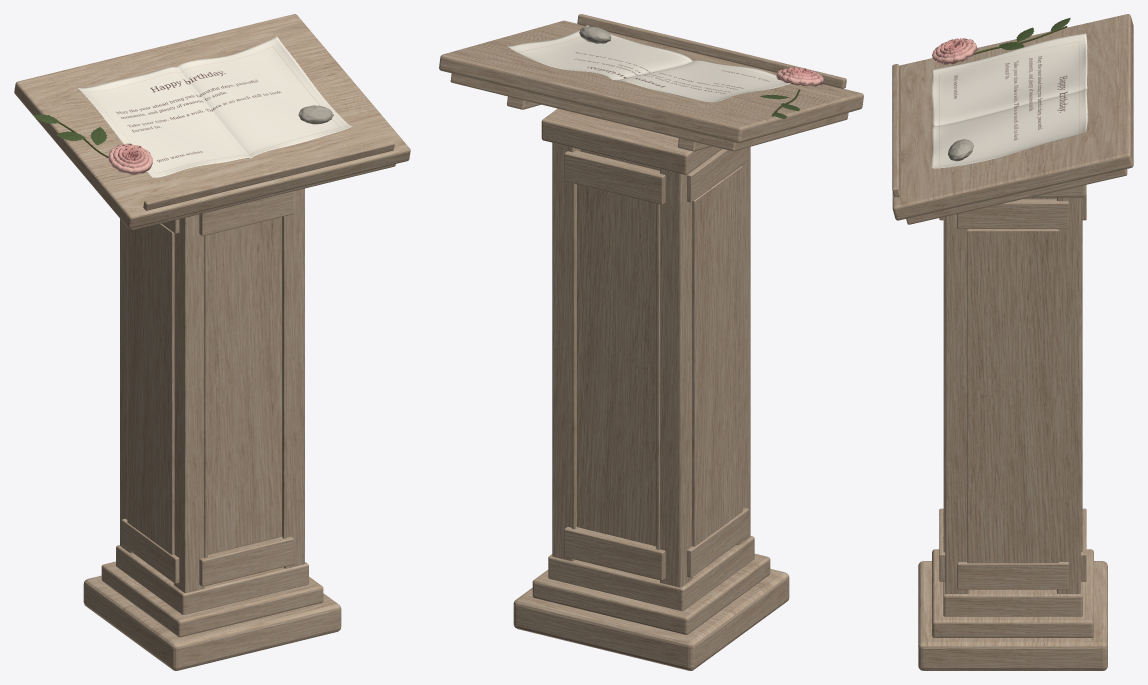
The model's file is ending.glb.
3 views of the same model, side by side, from view 1: azimuth 30°, elevation 25°; view 2: azimuth 150°, elevation 25°; view 3: azimuth 270°, elevation 25° (orthographic). The views are drawn at different scales.
Parts seen in each view (by area): view 1: P2.Indirect.ending.001, 06 LETTER • blank cotton sheet — replace with supplied, 06 rose • serrated leaf 1.001; view 2: P2.Indirect.ending.001, 06 LETTER • blank cotton sheet — replace with supplied; view 3: P2.Indirect.ending.001, 06 LETTER • blank cotton sheet — replace with supplied, 06 letter • smooth natural stone paperweight.001, 06 rose • serrated leaf 1.001, 06 rose • cupped petal 5.013.
Boxes of the visible parts, x1,y1,x2,y2 form: P2.Indirect.ending.001: (14, 14, 410, 670); 06 LETTER • blank cotton sheet — replace with supplied: (77, 36, 351, 177); 06 rose • serrated leaf 1.001: (33, 114, 106, 145); P2.Indirect.ending.001: (439, 14, 863, 670); 06 LETTER • blank cotton sheet — replace with supplied: (507, 25, 790, 102); P2.Indirect.ending.001: (892, 14, 1133, 670); 06 LETTER • blank cotton sheet — replace with supplied: (931, 33, 1087, 168); 06 letter • smooth natural stone paperweight.001: (948, 139, 973, 161); 06 rose • serrated leaf 1.001: (999, 18, 1070, 49); 06 rose • cupped petal 5.013: (932, 38, 977, 64).
Size of the model in its own units: 0.6232 by 1.09 by 0.4319.
Materials: 10 (5 with a texture image).
